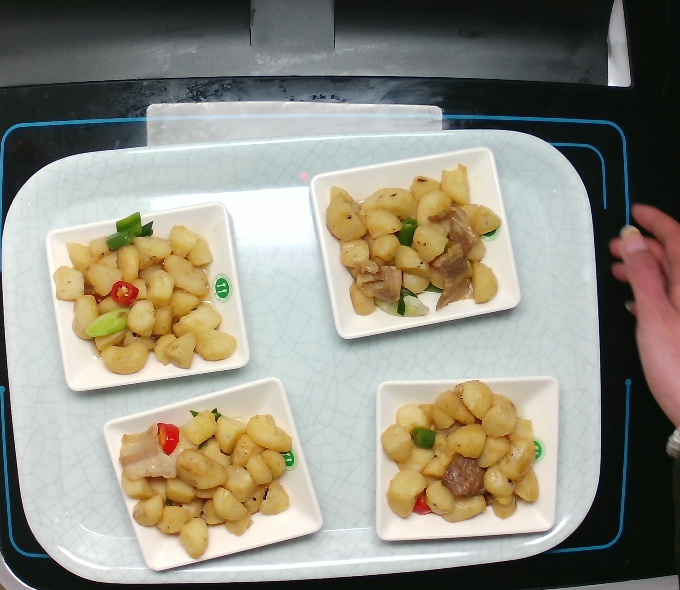wcq-MaTiGuoChaoRou: (313, 163, 516, 321), (103, 403, 306, 560), (57, 215, 245, 380), (369, 375, 555, 524)
